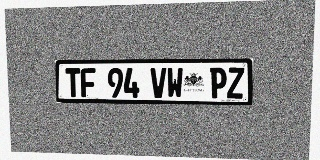4: (124, 68, 139, 98)
9: (108, 68, 123, 98)
F: (81, 68, 96, 97)
P: (210, 67, 227, 98)
T: (65, 68, 81, 97)
V: (150, 68, 166, 98)
W: (167, 68, 183, 98)
Z: (227, 67, 244, 99)
